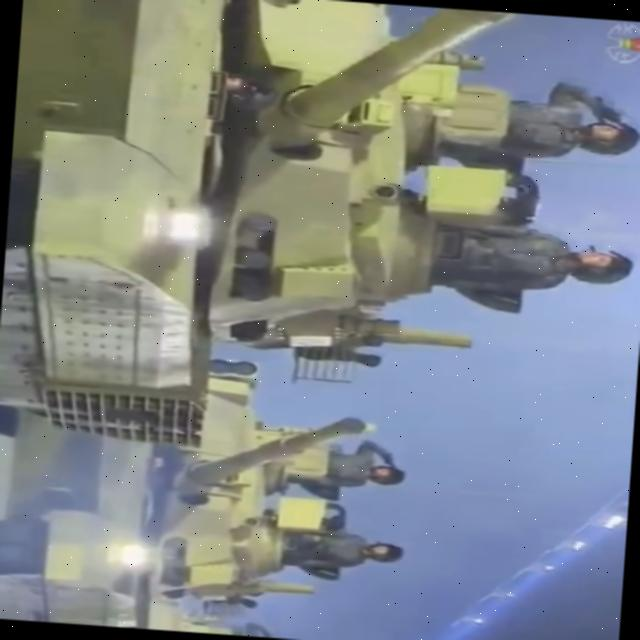north tank: (0, 0, 551, 482), (0, 351, 377, 640)
